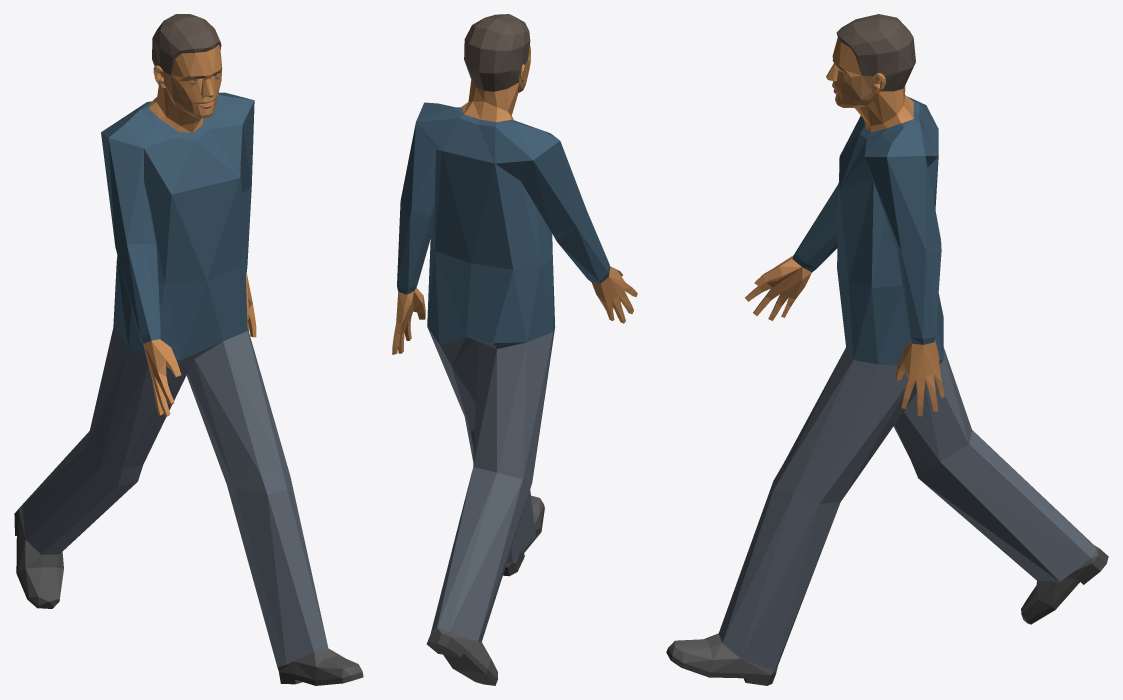
File: human-male-1-walking.glb
The picture shows the model from 3 angles, left to right: view 1: azimuth 30°, elevation 25°; view 2: azimuth 150°, elevation 25°; view 3: azimuth 270°, elevation 25°; orthographic projection. The views are drawn at different scales.
Visible parts, largest first — view 1: human/male@1/walking; view 2: human/male@1/walking; view 3: human/male@1/walking.
Boxes of the visible parts, <box> form: human/male@1/walking: <box>14,14,363,685</box>; human/male@1/walking: <box>392,14,637,685</box>; human/male@1/walking: <box>666,14,1108,685</box>.
Bounding box in the file's own units: 473 × 1742 × 1091.
